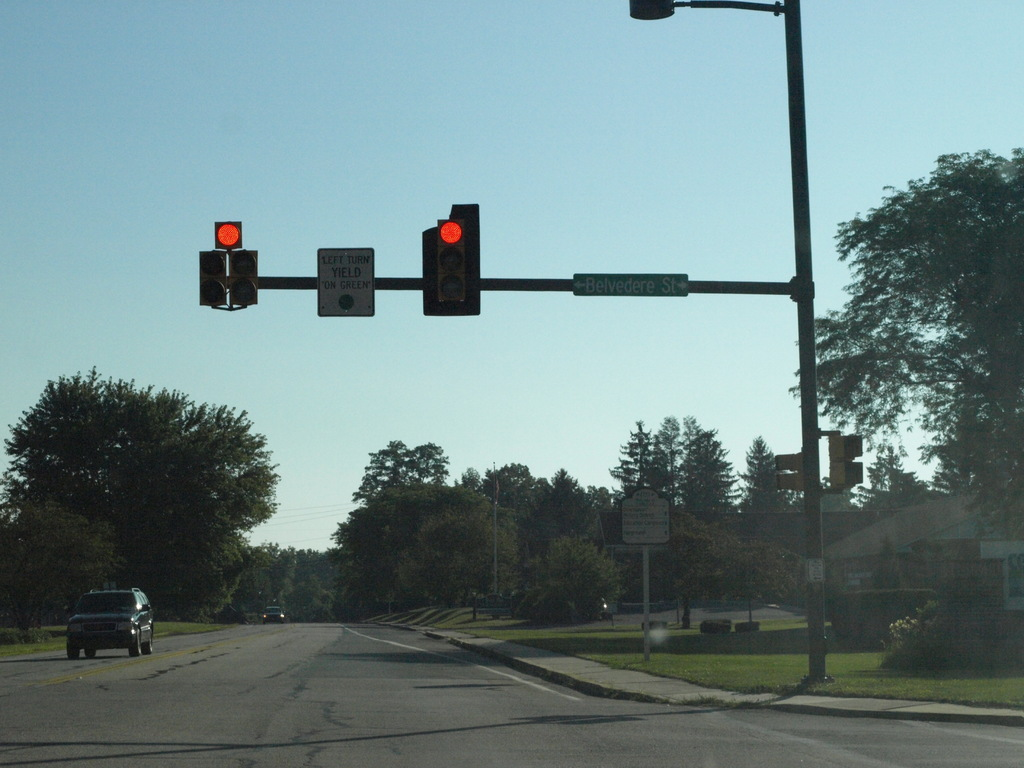red_light: (428, 205, 481, 312), (202, 222, 259, 306)
